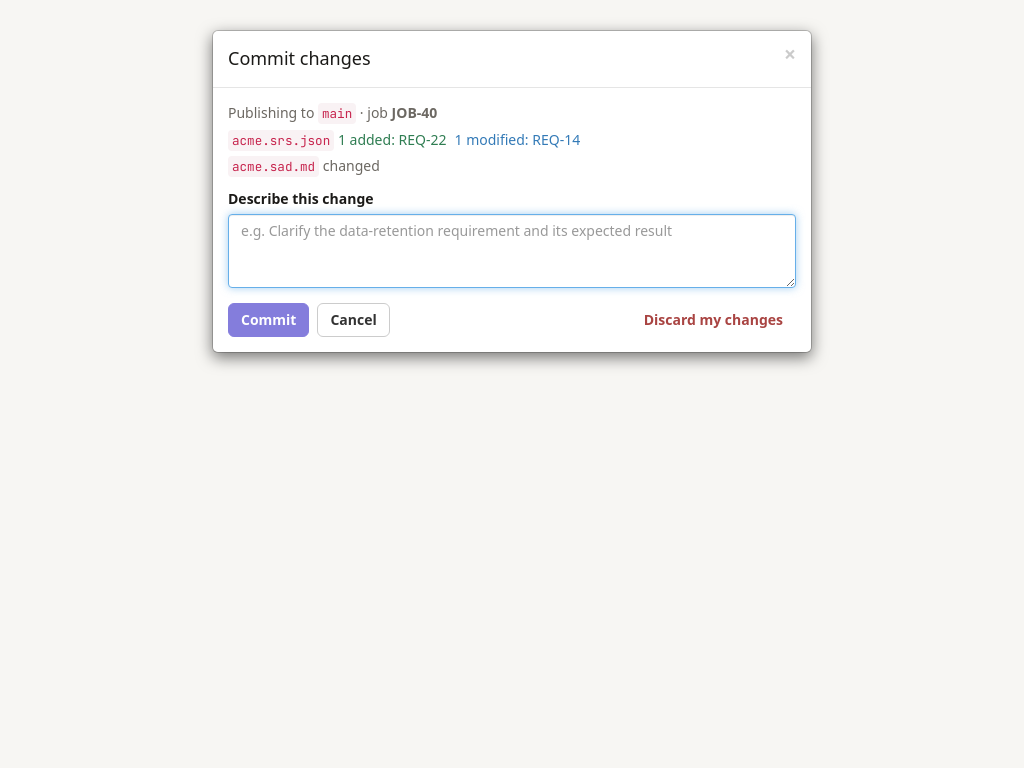
Test: CommitDialog — committing (CMT-3) › commits the typed message and reports success
Replace the text in the text box labelled "Describe this change" with "Clarify the retention requirement" at (512, 252), box left=228, top=214, right=796, bottom=288
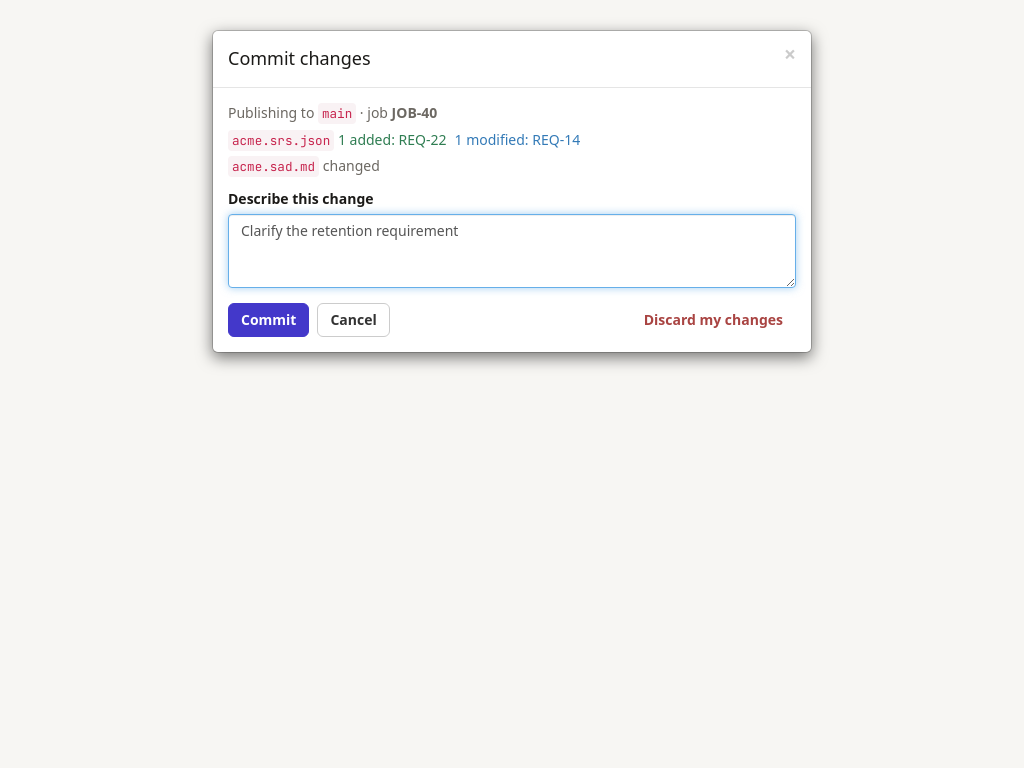
Click the button "Commit" at (269, 320), box left=228, top=304, right=309, bottom=338
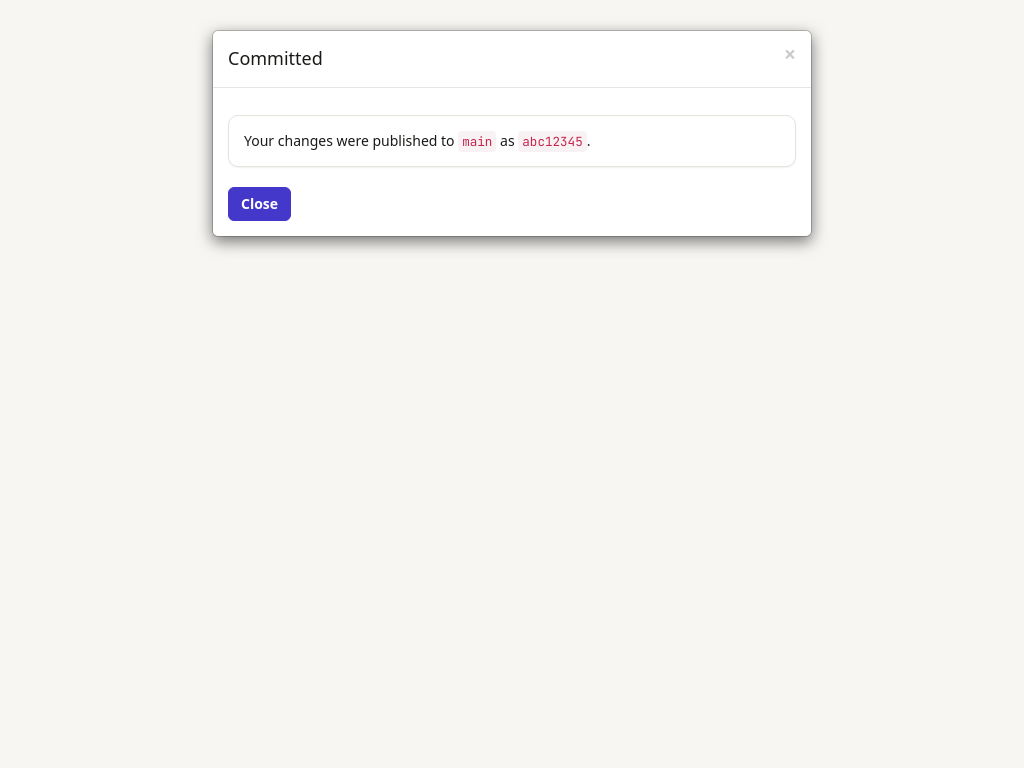
Expected: the text "Your changes were published to main as abc12345." is shown, left=228, top=115, right=796, bottom=167
Expected: the text "abc12345" is shown, left=518, top=131, right=587, bottom=152
